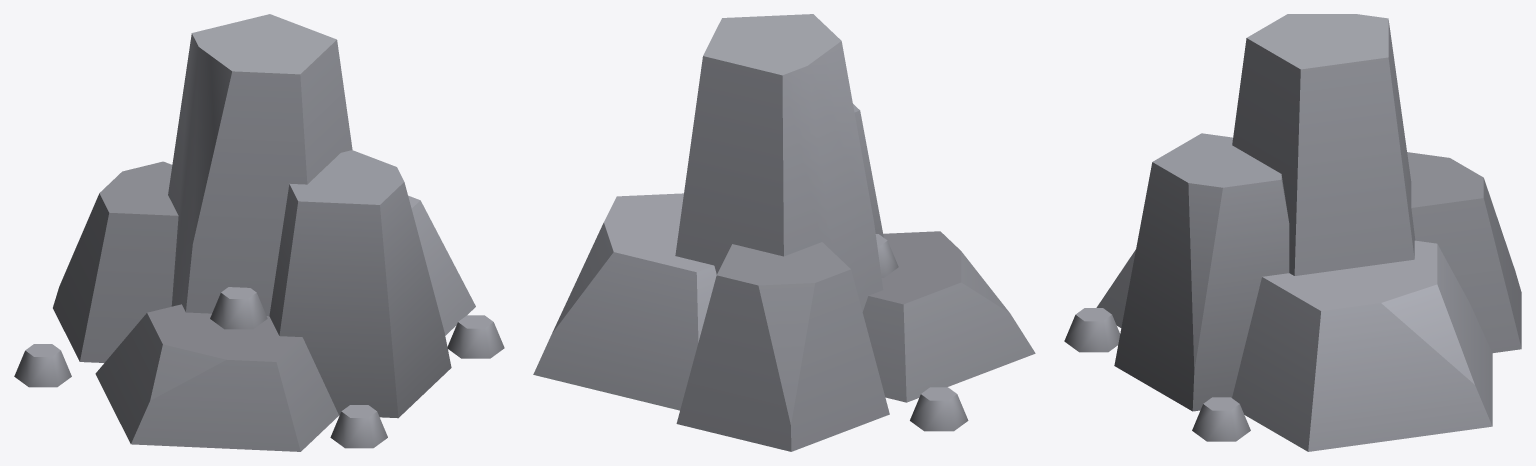
File: rock-large.glb
3 views of the same model, side by side, from view 1: azimuth 30°, elevation 25°; view 2: azimuth 150°, elevation 25°; view 3: azimuth 270°, elevation 25° (orthographic). The views are drawn at different scales.
Visible parts, largest first — view 1: rock-large; view 2: rock-large; view 3: rock-large.
Part boxes in pixels (<box>): rock-large: <box>14,14,504,451</box>; rock-large: <box>533,14,1035,451</box>; rock-large: <box>1064,14,1521,451</box>.
Bounding box in the file's own units: 1.67 × 1.16 × 1.55.
1 material, 1 textured.
